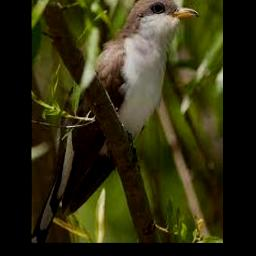Cuckoo: (32, 0, 200, 241)
